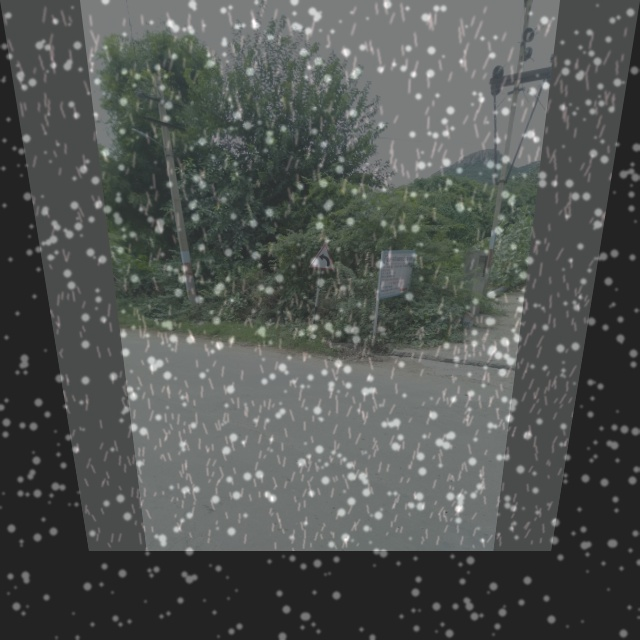Left_Hand_Curve: (309, 239, 338, 272)
